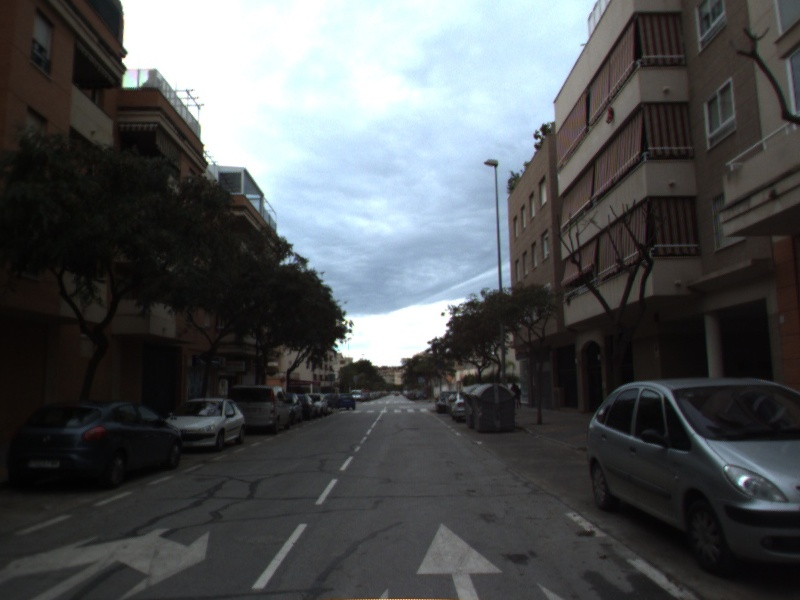STRAIGHT: (412, 516, 507, 600)
